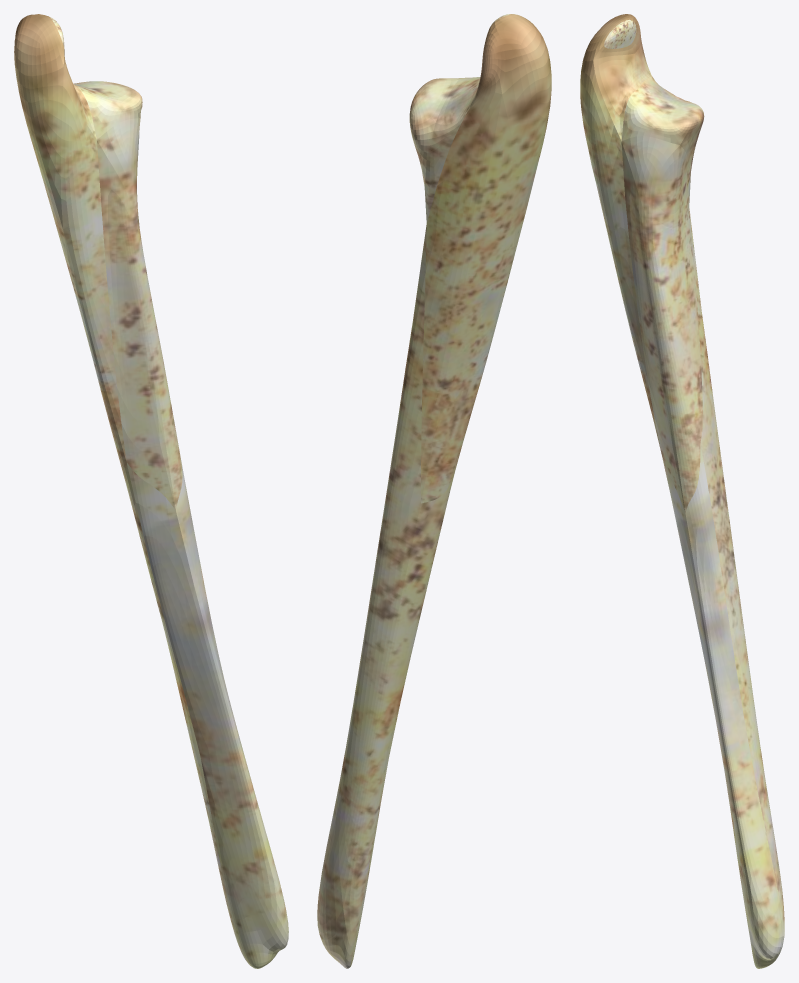
The model's file is arm.obj.
3 views of the same model, side by side, from view 1: azimuth 30°, elevation 25°; view 2: azimuth 150°, elevation 25°; view 3: azimuth 330°, elevation 25° (orthographic). The views are drawn at different scales.
Parts seen in each view (by area): view 1: Esqueleto_Esqueleto1_Resto.056; view 2: Esqueleto_Esqueleto1_Resto.056; view 3: Esqueleto_Esqueleto1_Resto.056.
Boxes of the visible parts, x1=… form: Esqueleto_Esqueleto1_Resto.056: x1=14, y1=14, x2=288, y2=968; Esqueleto_Esqueleto1_Resto.056: x1=317, y1=14, x2=551, y2=968; Esqueleto_Esqueleto1_Resto.056: x1=580, y1=14, x2=784, y2=968.
Size of the model in its own units: 0.2941 by 1.15 by 0.15.
Materials: 1 (1 with a texture image).
